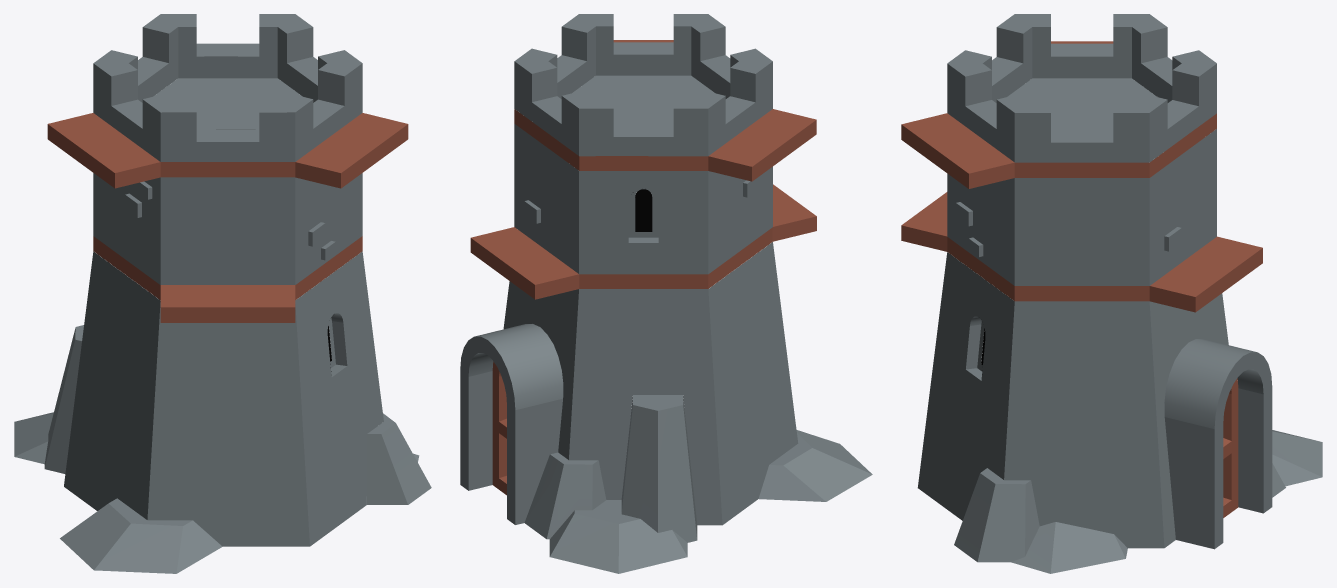
Rendered from tower.gltf.
3 renders of one model, left to right at view 1: azimuth 30°, elevation 25°; view 2: azimuth 150°, elevation 25°; view 3: azimuth 270°, elevation 25°, orthographic. The views are drawn at different scales.
Parts seen in each view (by area): view 1: tower; view 2: tower; view 3: tower.
Part boxes in pixels (box(x1,y1,x2,y2)): tower: box(14, 14, 431, 573); tower: box(460, 14, 872, 573); tower: box(901, 14, 1322, 573).
Bounding box in the file's own units: 3.32 × 3.71 × 3.34.
